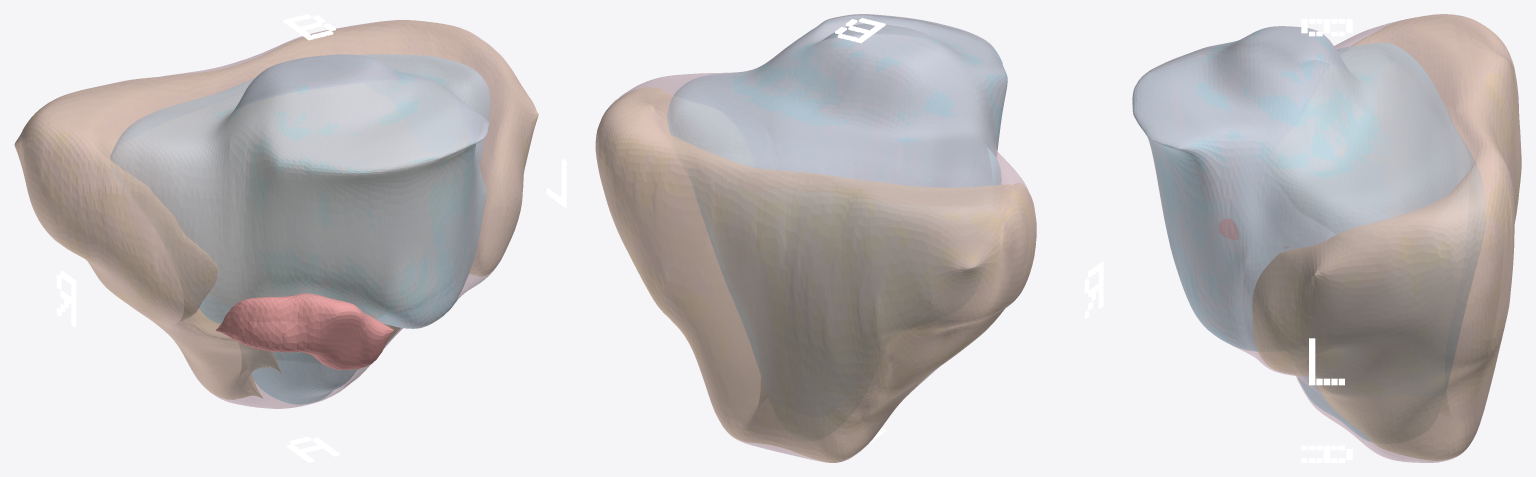
3 views of the same model, side by side, from view 1: azimuth 30°, elevation 25°; view 2: azimuth 150°, elevation 25°; view 3: azimuth 270°, elevation 25° (orthographic). The views are drawn at different scales.
Visible parts, largest first — view 1: prostate_gland, transition_zone, peripheral_zone, lesion_01, pv_ar_marker_B, pv_ar_marker_R, pv_ar_marker_A; view 2: prostate_gland, peripheral_zone, transition_zone, pv_ar_marker_B, pv_ar_marker_R; view 3: prostate_gland, transition_zone, peripheral_zone, pv_ar_marker_B, pv_ar_marker_A, pv_ar_marker_L.
Boxes of the visible parts, left/top/right/bottom form: prostate_gland: left=14, top=20, right=538, bottom=408; transition_zone: left=110, top=54, right=490, bottom=404; peripheral_zone: left=15, top=20, right=537, bottom=399; lesion_01: left=215, top=293, right=393, bottom=369; pv_ar_marker_B: left=283, top=14, right=335, bottom=40; pv_ar_marker_R: left=56, top=270, right=76, bottom=327; pv_ar_marker_A: left=287, top=436, right=339, bottom=462; prostate_gland: left=595, top=14, right=1036, bottom=462; peripheral_zone: left=596, top=87, right=1036, bottom=462; transition_zone: left=667, top=14, right=1007, bottom=375; pv_ar_marker_B: left=835, top=18, right=885, bottom=43; pv_ar_marker_R: left=1084, top=262, right=1103, bottom=318; prostate_gland: left=1132, top=14, right=1521, bottom=462; transition_zone: left=1132, top=26, right=1485, bottom=441; peripheral_zone: left=1252, top=14, right=1521, bottom=460; pv_ar_marker_B: left=1301, top=19, right=1352, bottom=36; pv_ar_marker_A: left=1301, top=445, right=1352, bottom=462; pv_ar_marker_L: left=1309, top=338, right=1344, bottom=385.
Bounding box in the file's own units: 0.0489 × 0.0403 × 0.0332.
